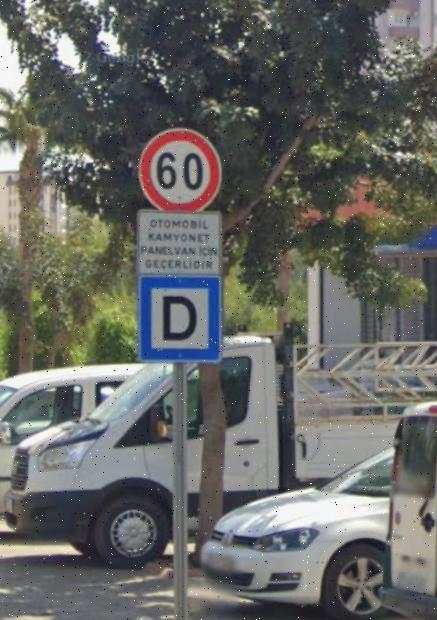station: (145, 280, 214, 353)
